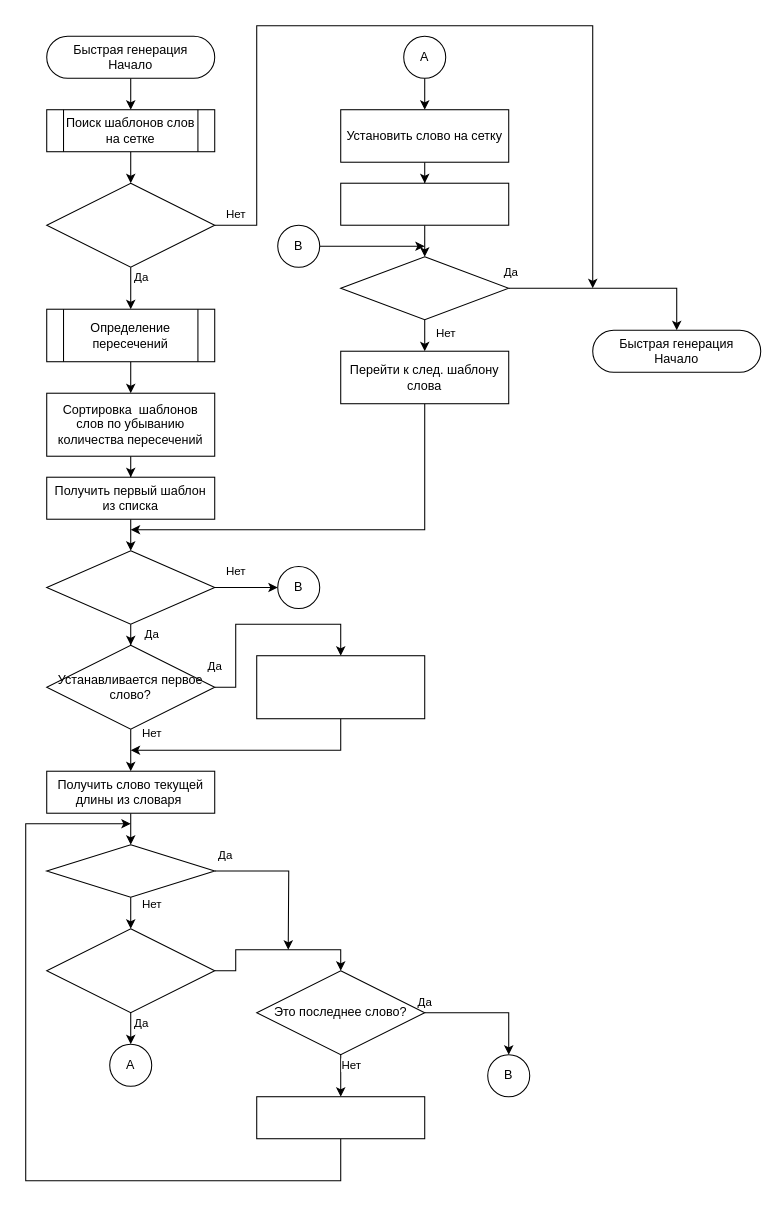
Image size: 779x1208. Some labels were removed from this diagram. The shapes that lost their labels are listed below. From the top down, each one's centre as x and y in pixels, then its label:
[424,203]: Увеличить кол-во установленных слов
[130,224]: Количество шаблонов слов на сетке > 0?
[424,288]: Это был последний шаблон слова?
[130,587]: Словарь содержит слова с длинной текущего шаблона?
[340,687]: Перемешивание слов с длиной текущего шаблона в словаре
[130,870]: Слово уже использовалось?
[130,970]: Слово соответствует регулярному выражению шаблона?
[340,1117]: Перейти к след. слову
